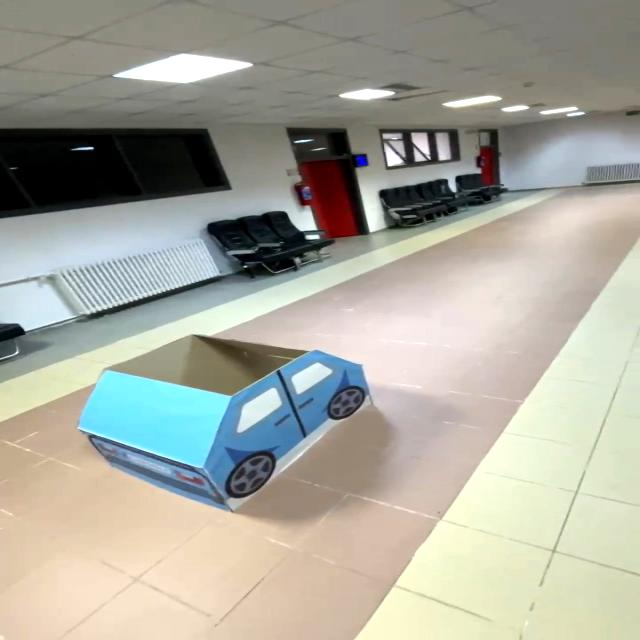blue_car: (41, 314, 402, 524)
